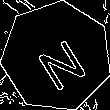N_NW: (26, 24, 87, 89)
